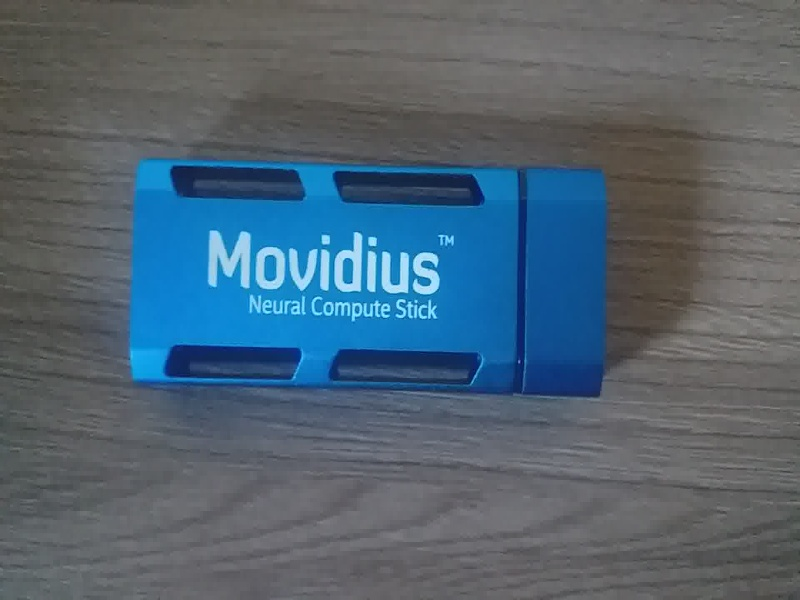movidius: (124, 149, 611, 404)
